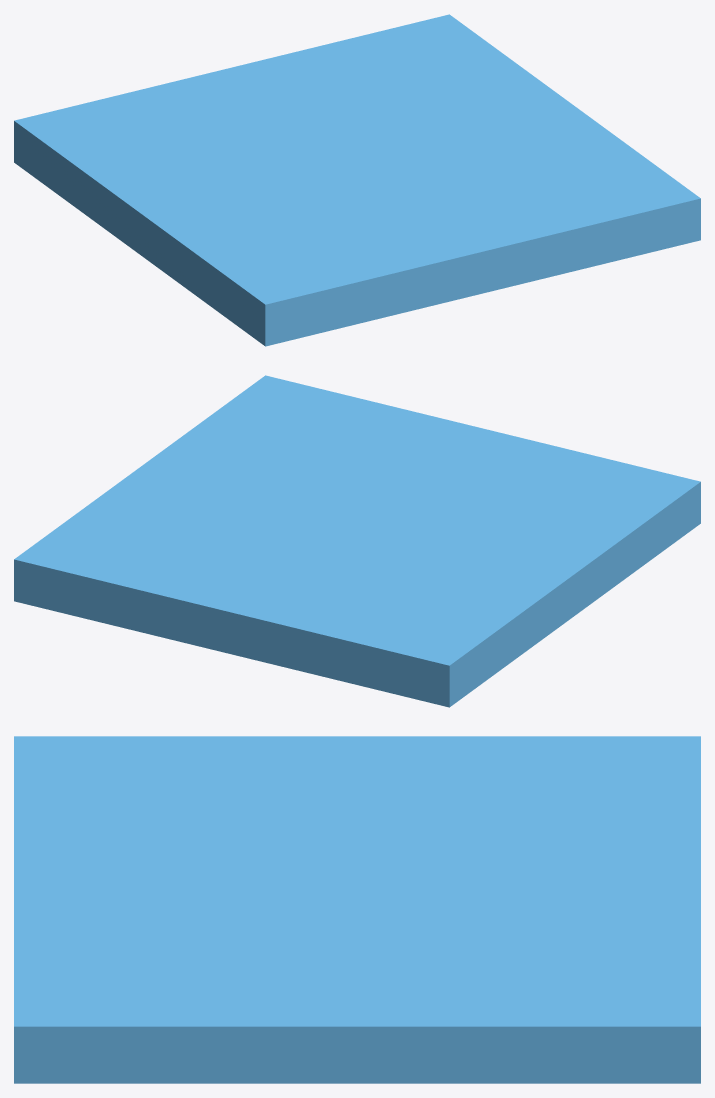
Rendered from water.fbx.
3 views of the same model, one above another, from view 1: azimuth 30°, elevation 25°; view 2: azimuth 150°, elevation 25°; view 3: azimuth 270°, elevation 25° (orthographic). The views are drawn at different scales.
Visible parts, largest first — view 1: Cube; view 2: Cube; view 3: Cube.
Boxes of the visible parts, <box> form: Cube: <box>14,14,700,346</box>; Cube: <box>14,375,700,707</box>; Cube: <box>14,736,700,1083</box>.
Size of the model in its own units: 200 by 18.36 by 200.
